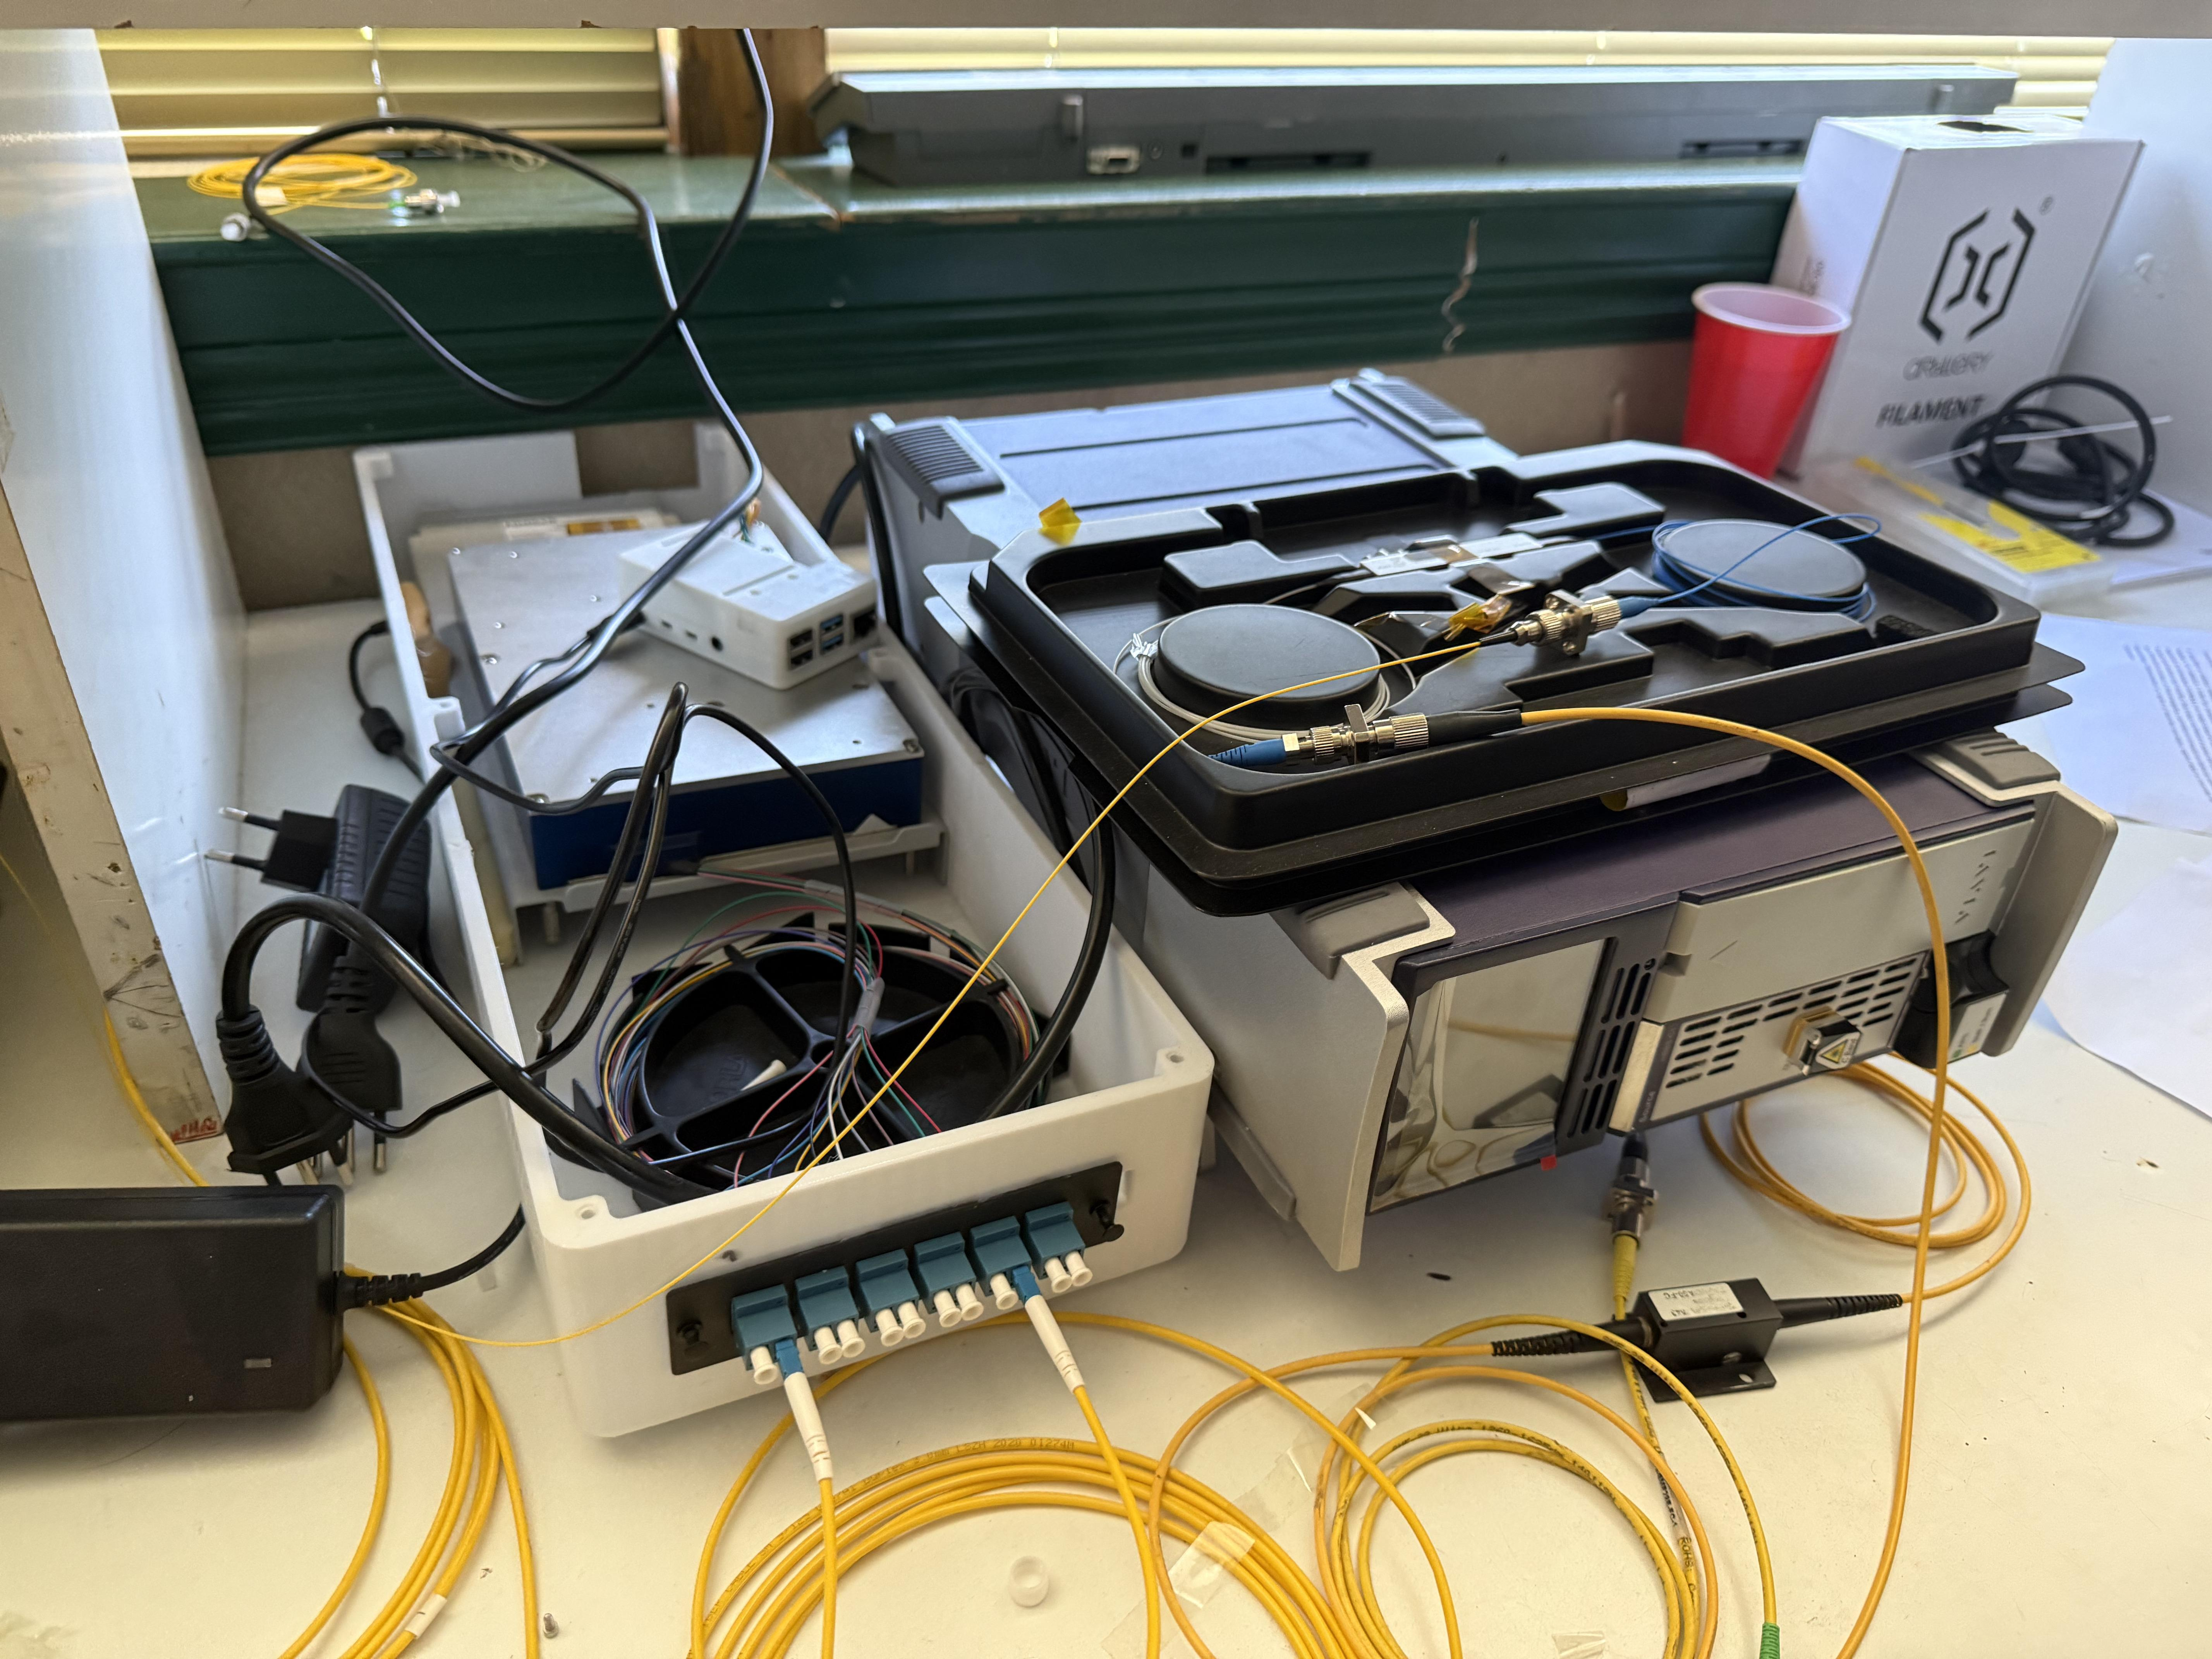laser: (862, 345, 2142, 1332)
